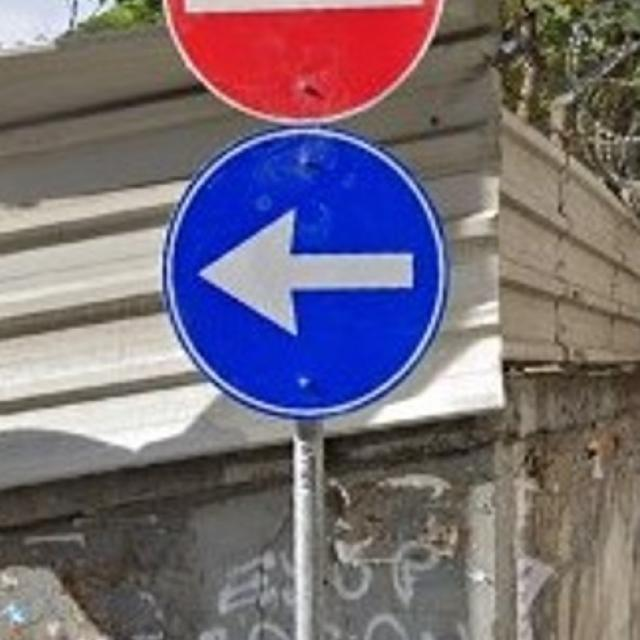Turn Left: (164, 132, 450, 419)
